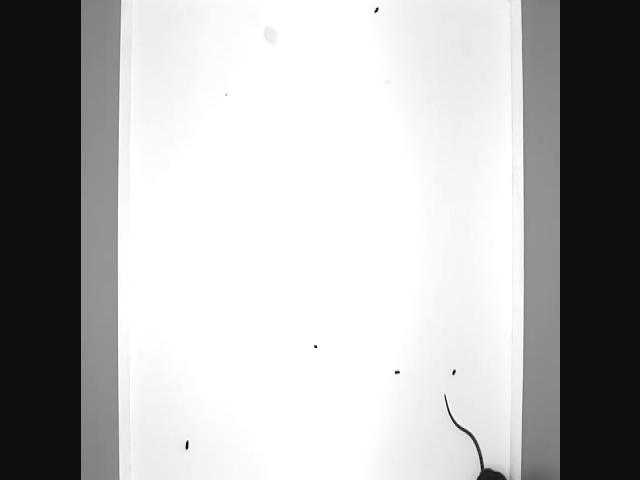Tikus: (444, 397, 524, 480)
